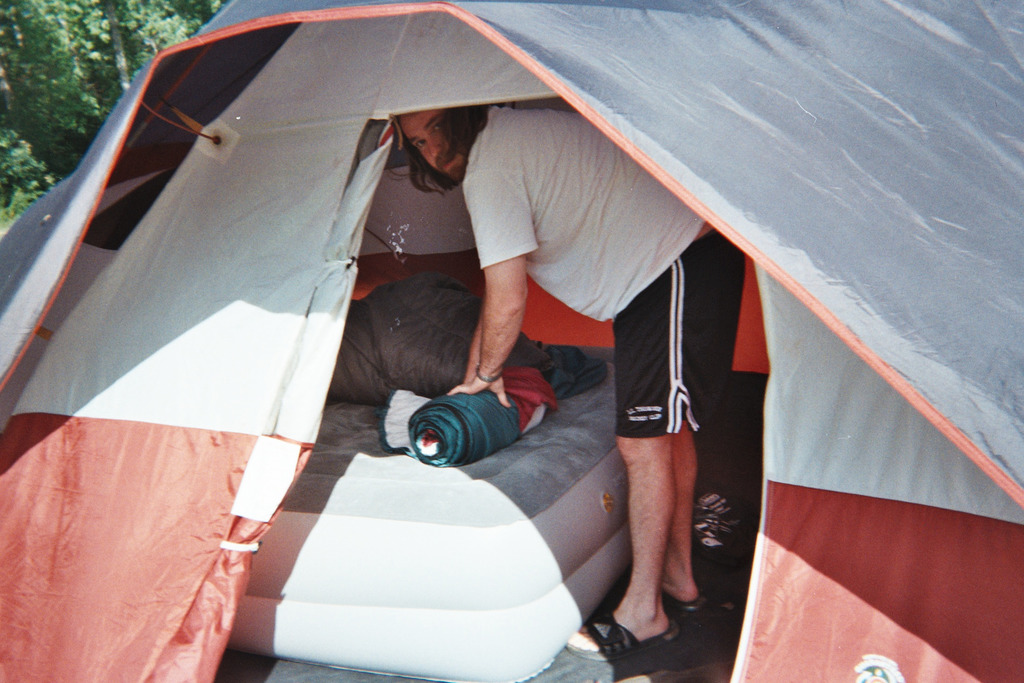Human_hand: (448, 364, 510, 406)
